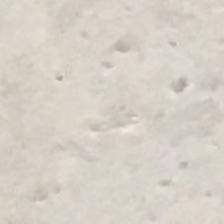Non_Crack: (15, 45, 224, 215)
